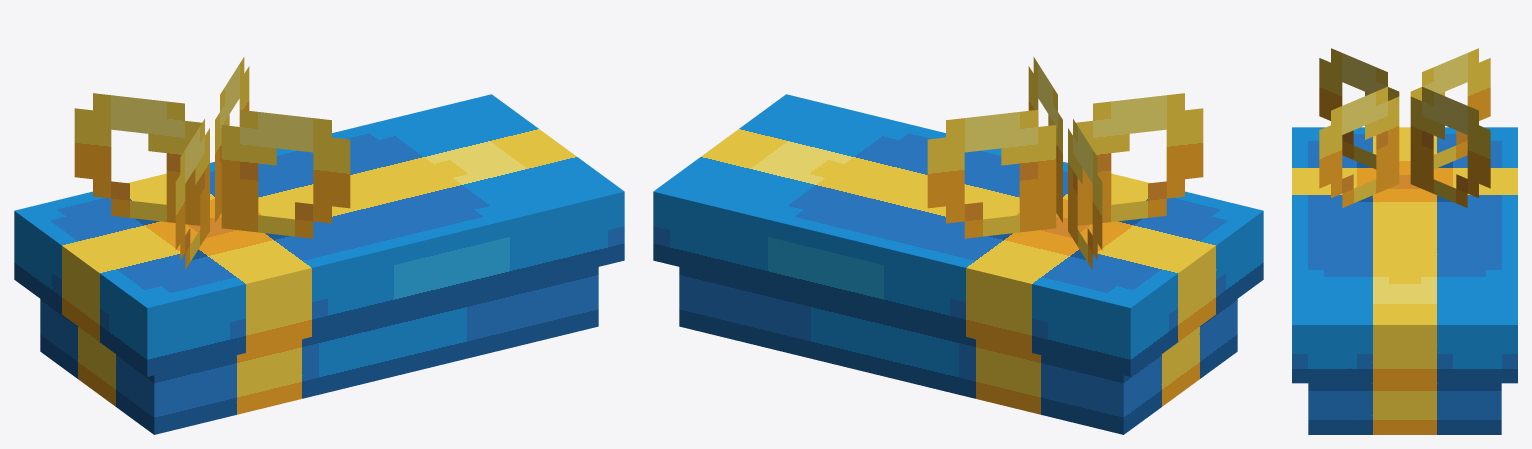
File: present10.gltf
The picture shows the model from 3 angles, left to right: view 1: azimuth 30°, elevation 25°; view 2: azimuth 150°, elevation 25°; view 3: azimuth 270°, elevation 25°; orthographic projection. The views are drawn at different scales.
Visible parts, largest first — view 1: cube (×4); view 2: cube (×4); view 3: cube (×4).
Boxes of the visible parts, x1,y1,x2,y2 form: cube (×4): (14,57,624,434); cube (×4): (653,57,1263,434); cube (×4): (1292,48,1517,434).
Size of the model in its own units: 1.81 by 1.06 by 0.875.
1 material, 1 textured.
